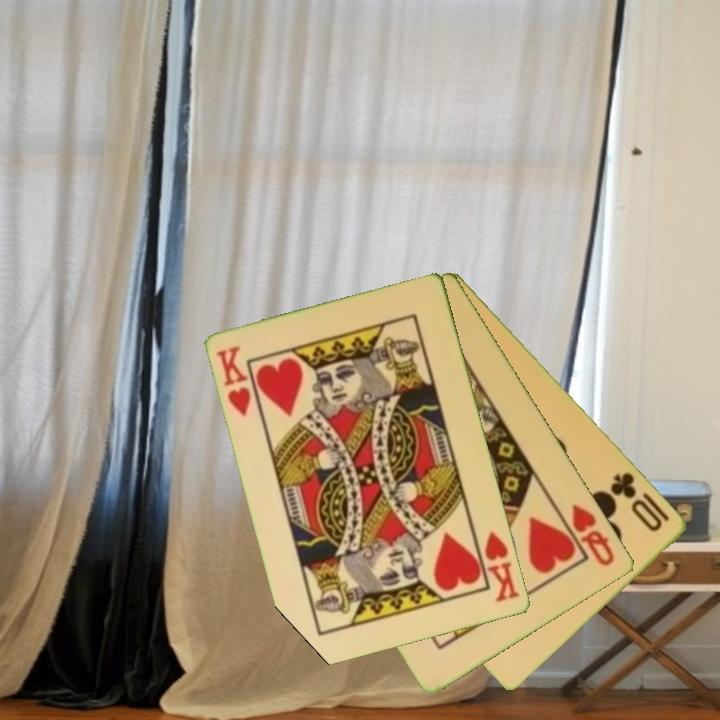10c: (607, 468, 666, 535)
Kh: (471, 528, 524, 605), (212, 342, 255, 420)
Qh: (568, 499, 618, 570)
